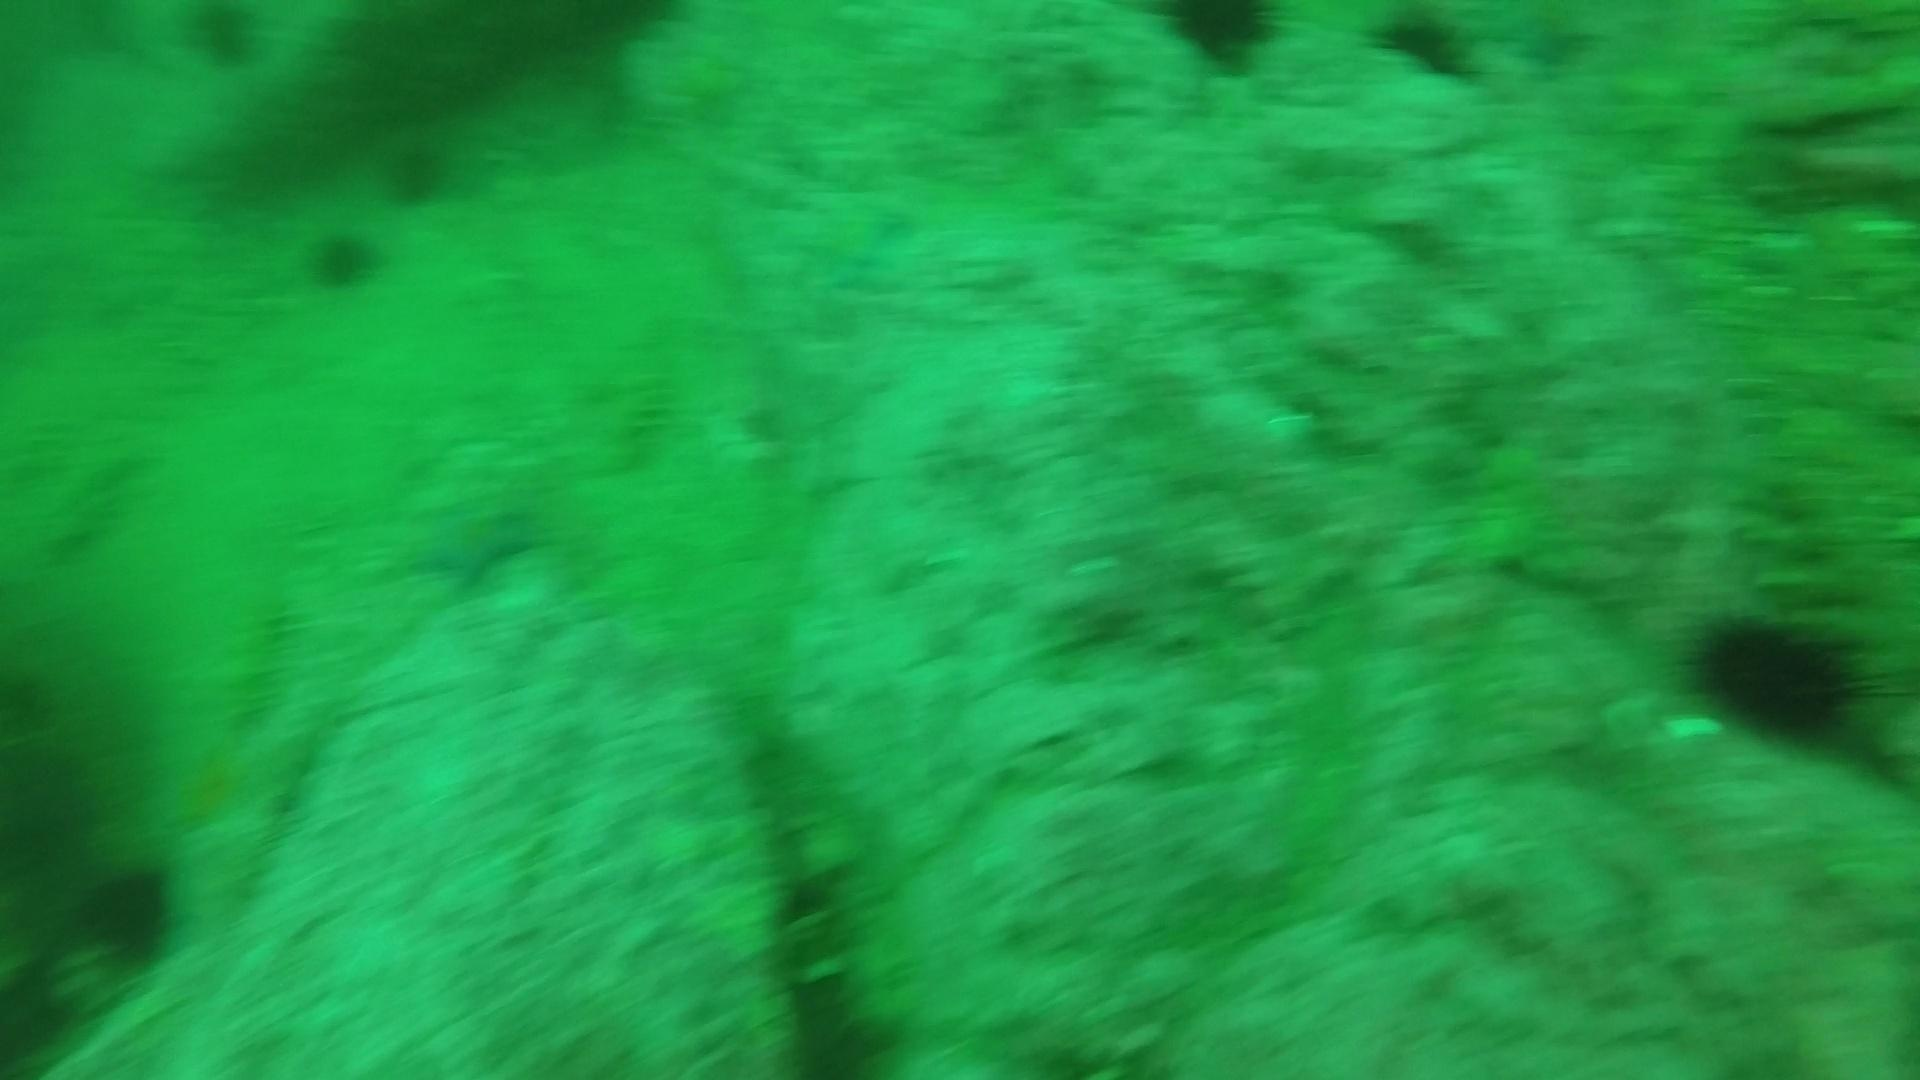echinus: (1683, 605, 1874, 749), (73, 855, 183, 969), (1153, 1, 1291, 79), (1364, 4, 1486, 88), (375, 127, 462, 210), (175, 1, 268, 73), (301, 222, 386, 295)
starfish: (767, 179, 918, 291), (400, 491, 546, 593)
